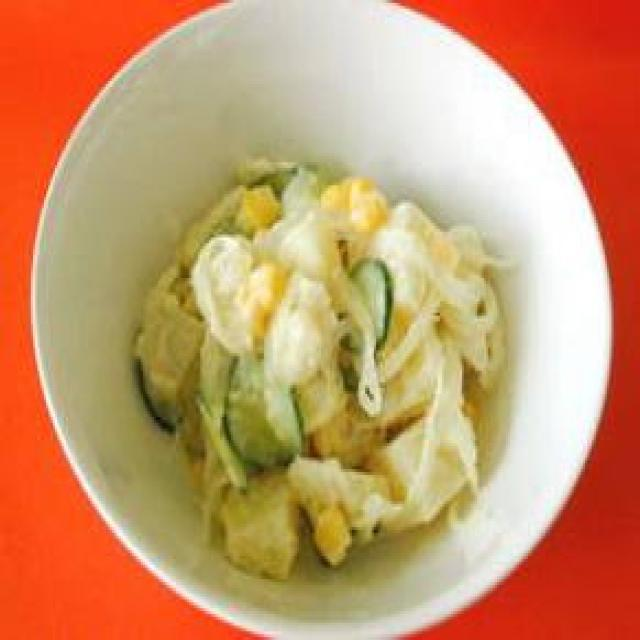蔬菜料理: (22, 0, 616, 640)
